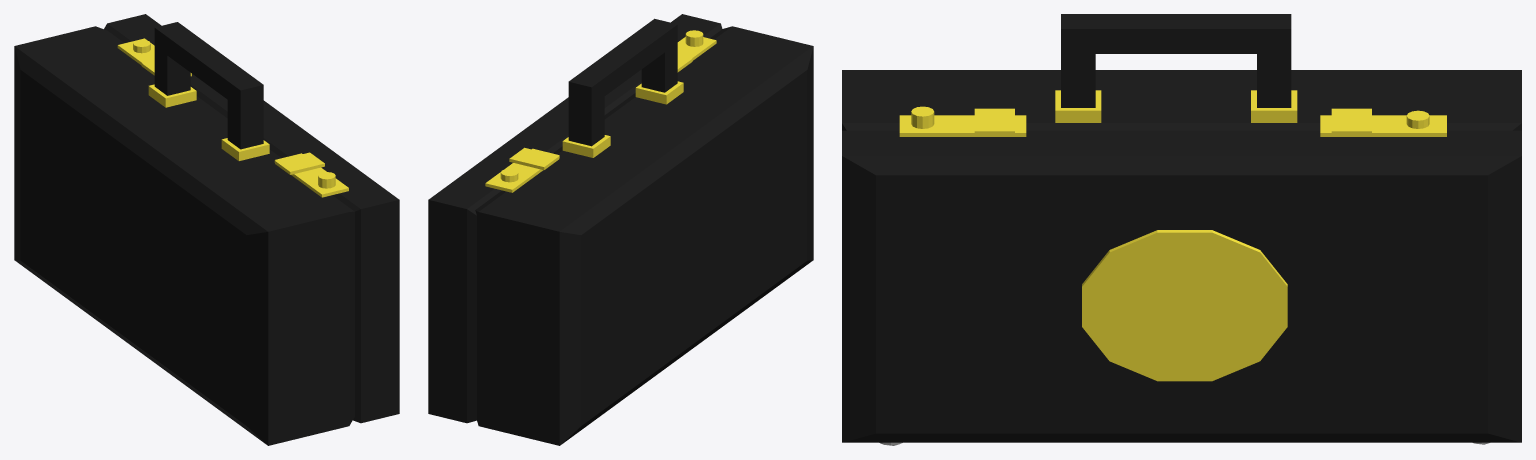
File: business-briefcase-reinforced-emerald.glb
3 renders of one model, left to right at view 1: azimuth 30°, elevation 25°; view 2: azimuth 150°, elevation 25°; view 3: azimuth 270°, elevation 25°, orthographic. The views are drawn at different scales.
Parts seen in each view (by area): view 1: Proportion-adjusted source luggage; view 2: Proportion-adjusted source luggage; view 3: Proportion-adjusted source luggage.
Part boxes in pixels (bbox=[...]): Proportion-adjusted source luggage: bbox=[14, 14, 399, 445]; Proportion-adjusted source luggage: bbox=[428, 14, 813, 445]; Proportion-adjusted source luggage: bbox=[842, 14, 1521, 445].
Bounding box in the file's own units: 0.4368 × 0.8041 × 1.27.
